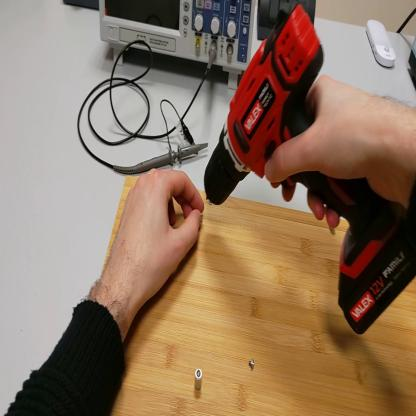electric screwdriver: (203, 7, 416, 336)
hand: (266, 75, 395, 225), (103, 167, 204, 307)
oscilloscope: (98, 2, 258, 92)
oscilloscope probe tip: (124, 139, 211, 174)
socket: (64, 2, 100, 14)
working area: (90, 177, 416, 415)
